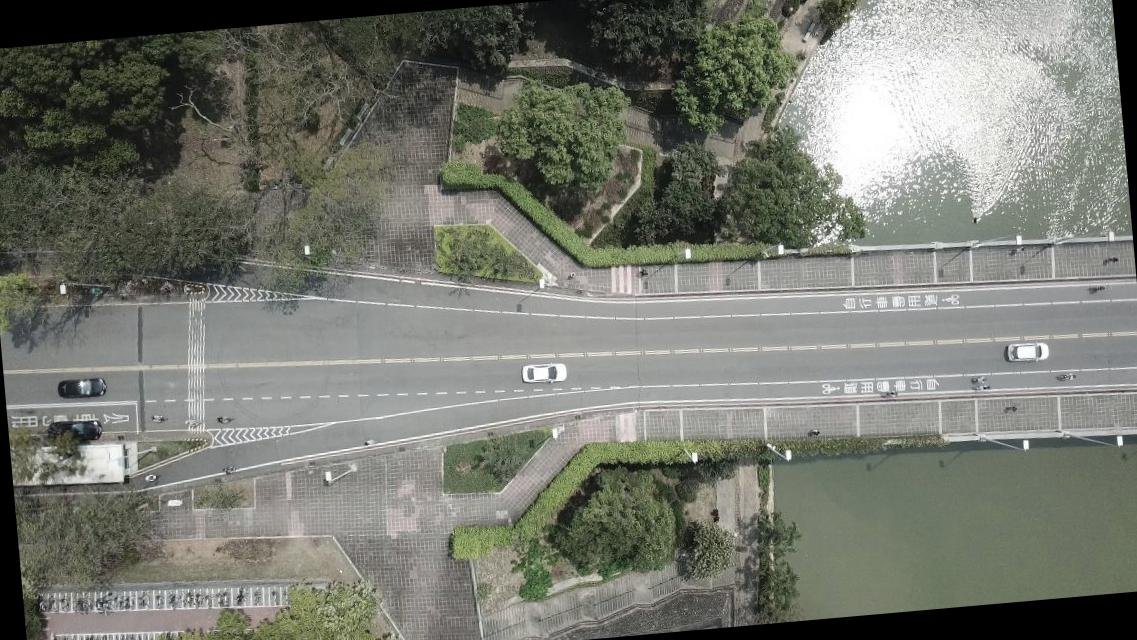vehicle: (44, 417, 102, 444), (54, 375, 107, 400), (520, 360, 566, 386), (1004, 339, 1048, 364)
